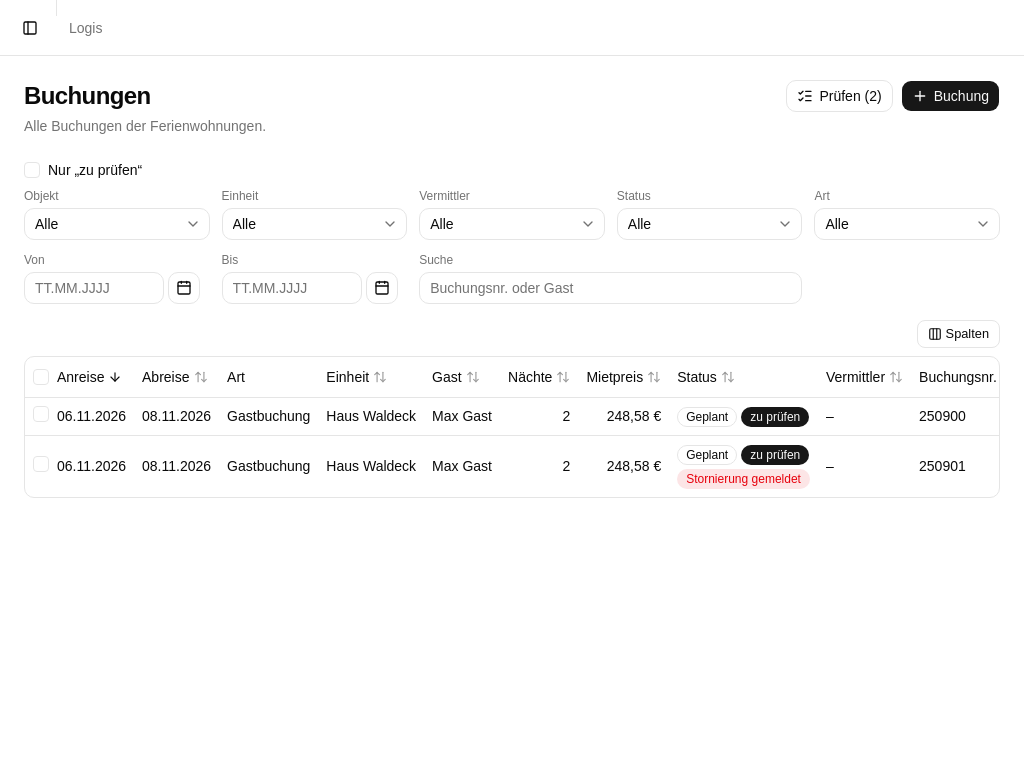
it: Bulk actions on bookings › does not confirm a booking whose cancellation a mail reports
Click the checkbox named "Alle auf dieser Seite auswählen": coordinates (41, 377) [33,369,49,385]
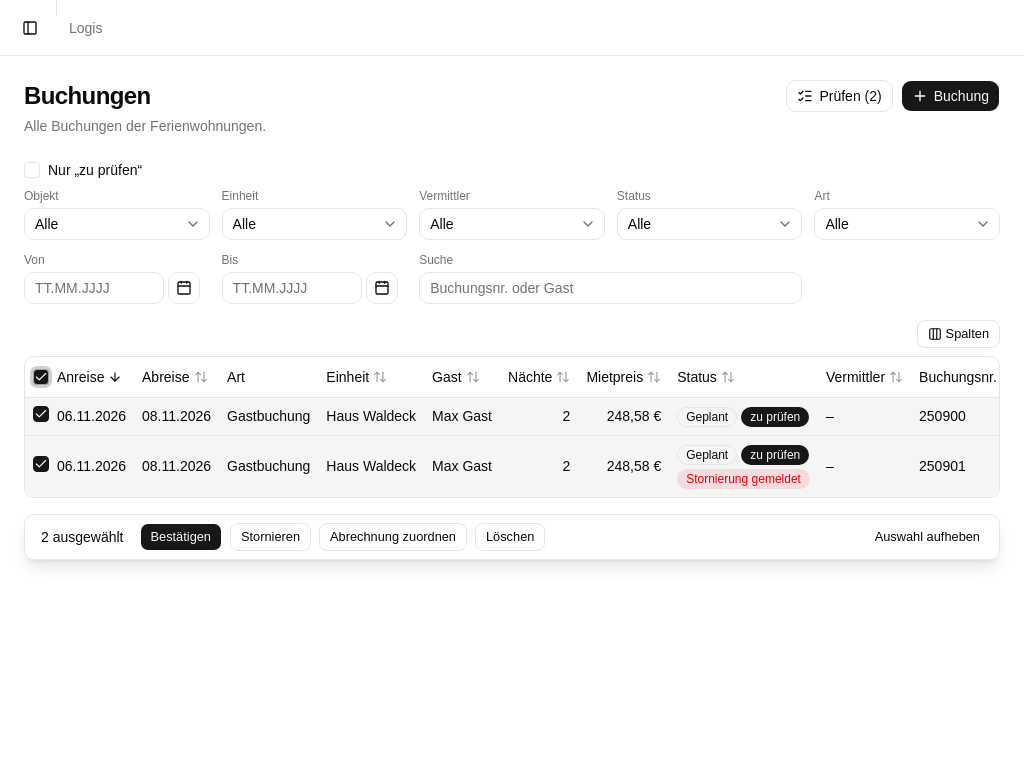
Click the button "Bestätigen": coordinates (181, 536) [140,522,222,550]
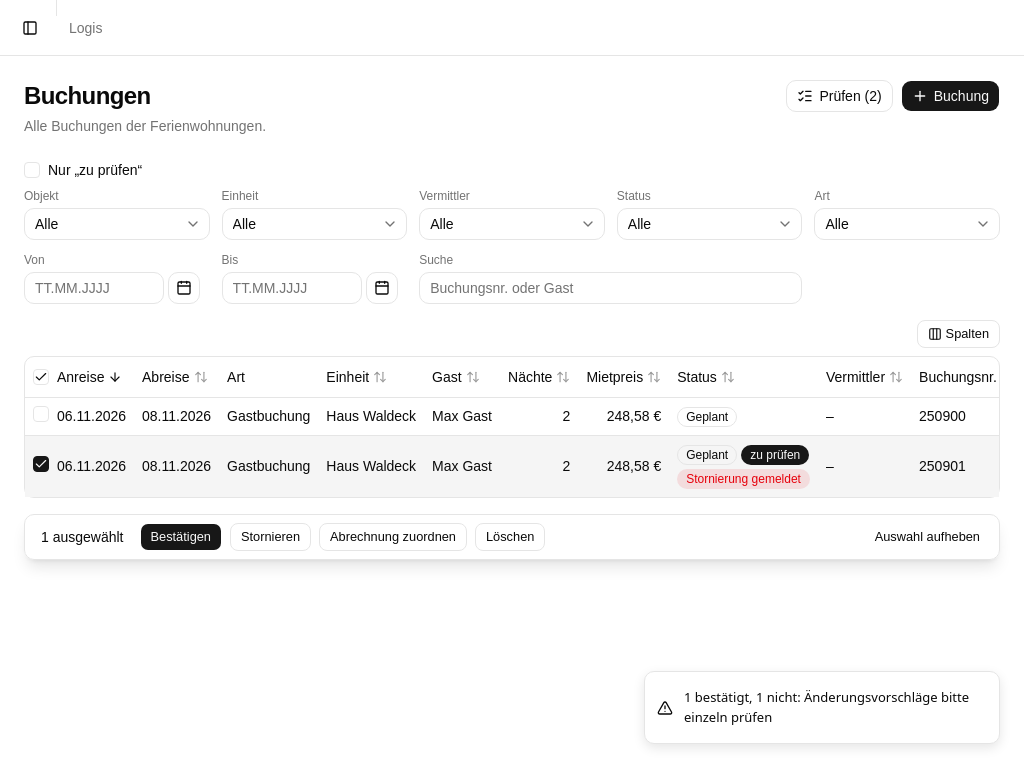
Expected: the text "zu prüfen" is shown, [741,444,809,464]
Expected: the text "1 bestätigt, 1 nicht: Änderungsvorschläge bitte einzeln prüfen" is shown, [684,688,983,727]
